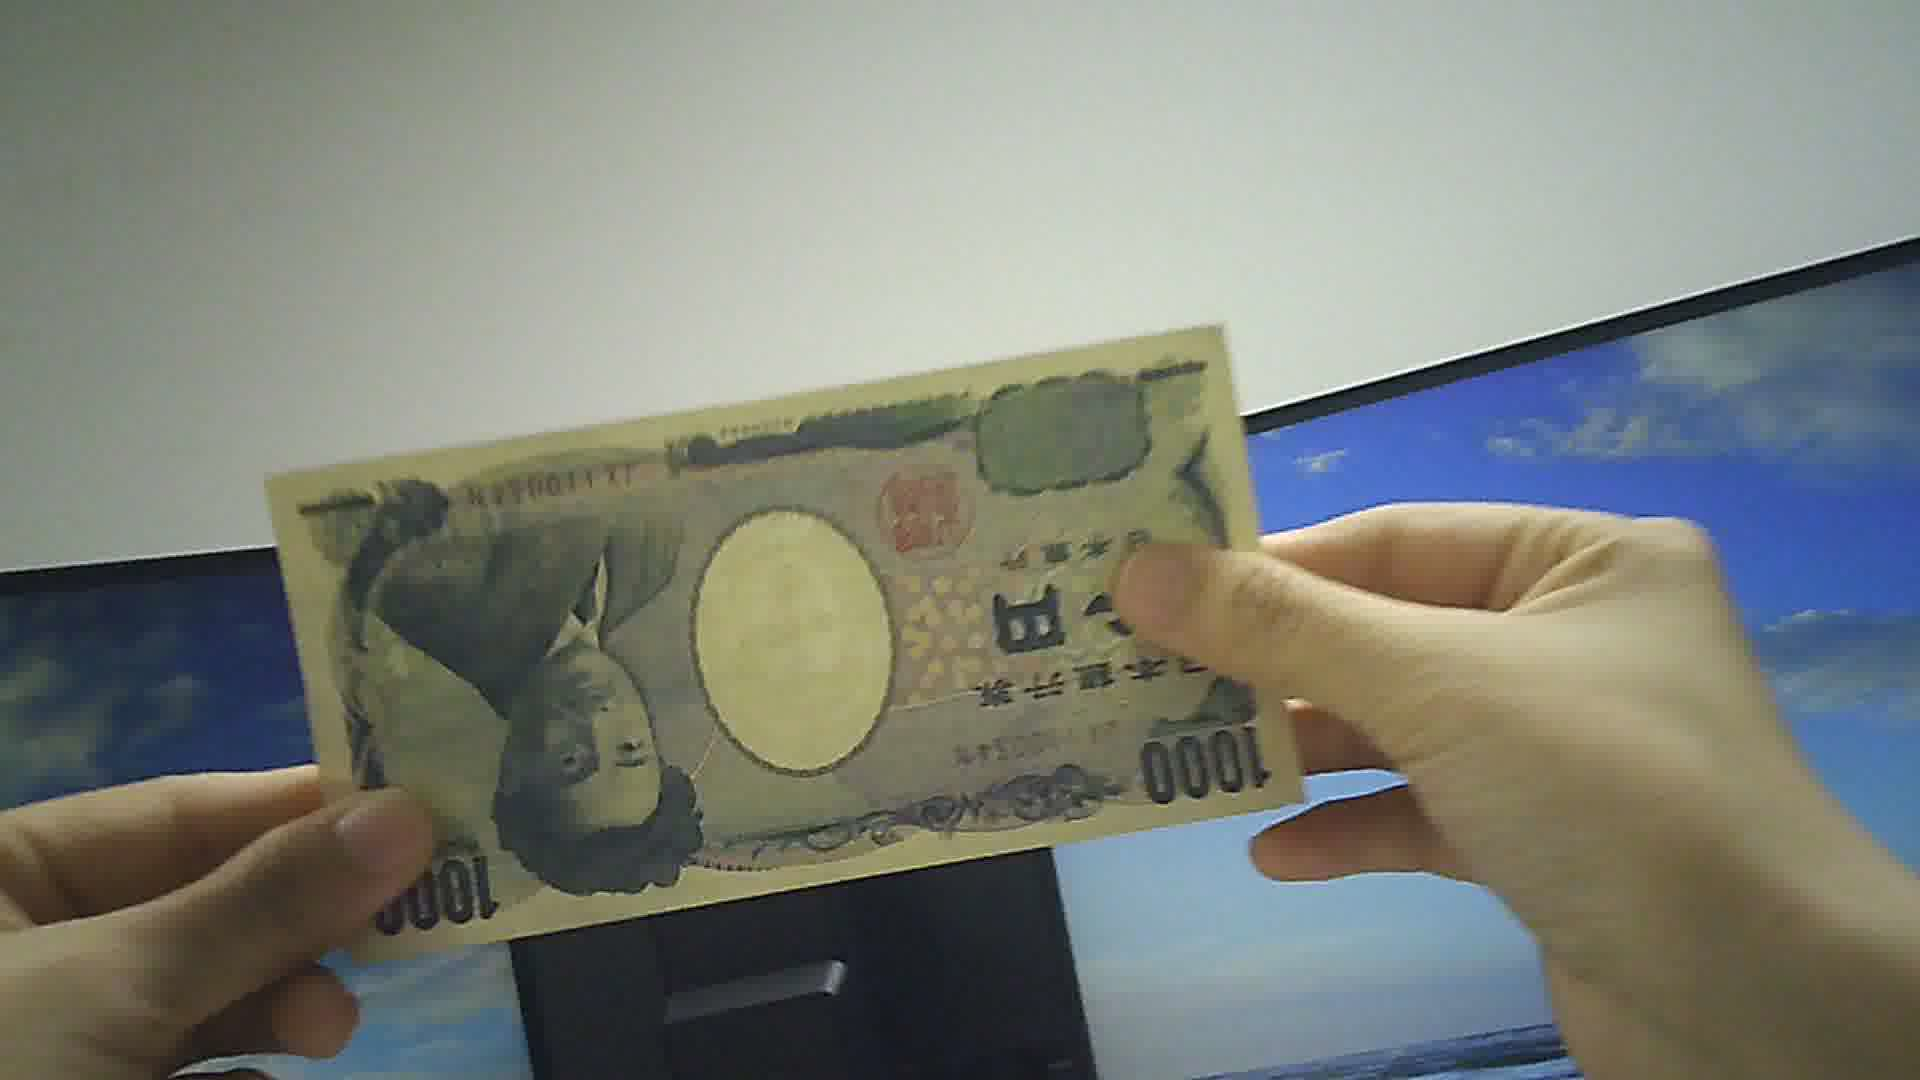1,000 Yen: (257, 327, 1309, 955)
